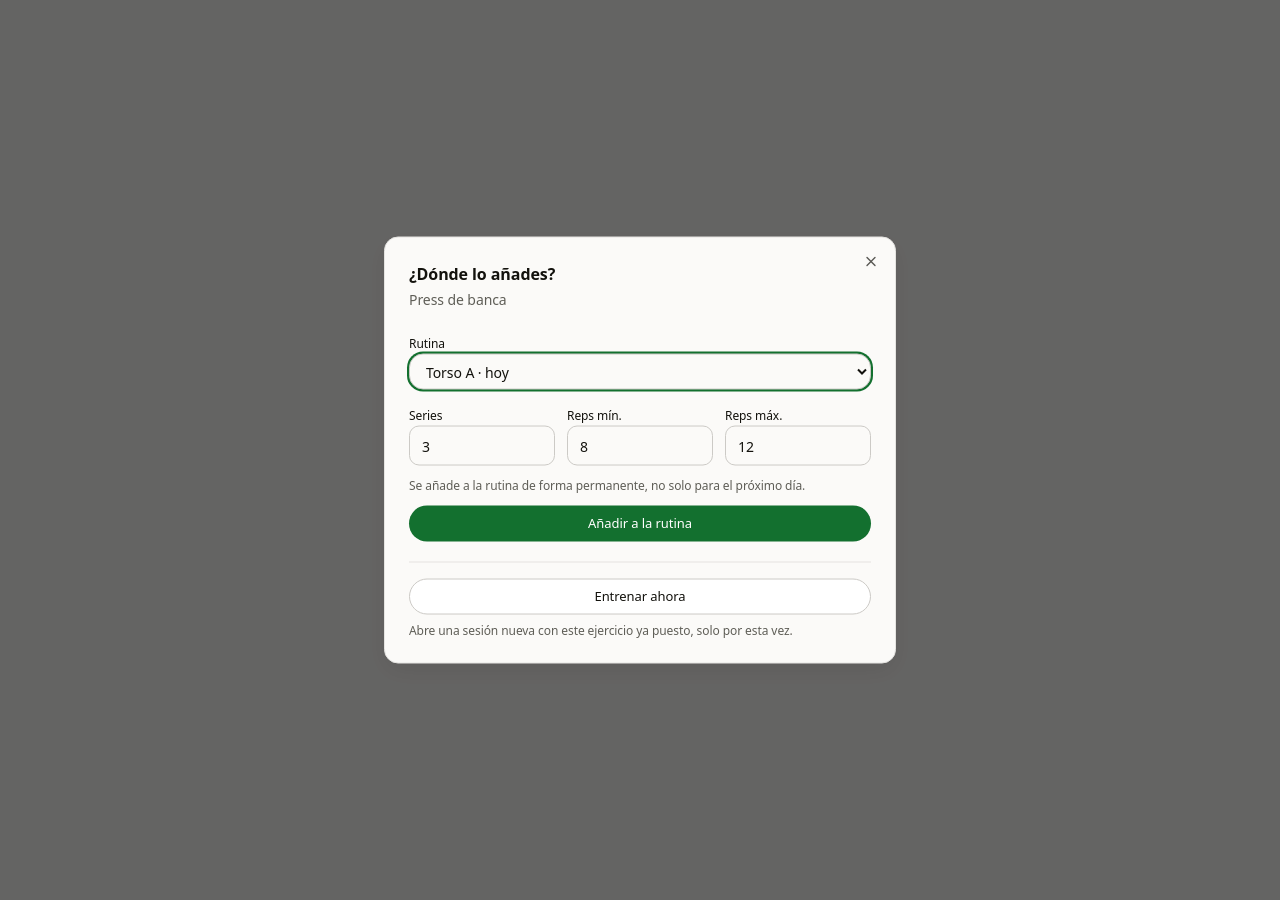
Test: AddExerciseSheet › blocks a rep range that runs backwards
Replace the text in the number field labelled "Reps mín." with "12" at (640, 446), box left=567, top=426, right=713, bottom=466
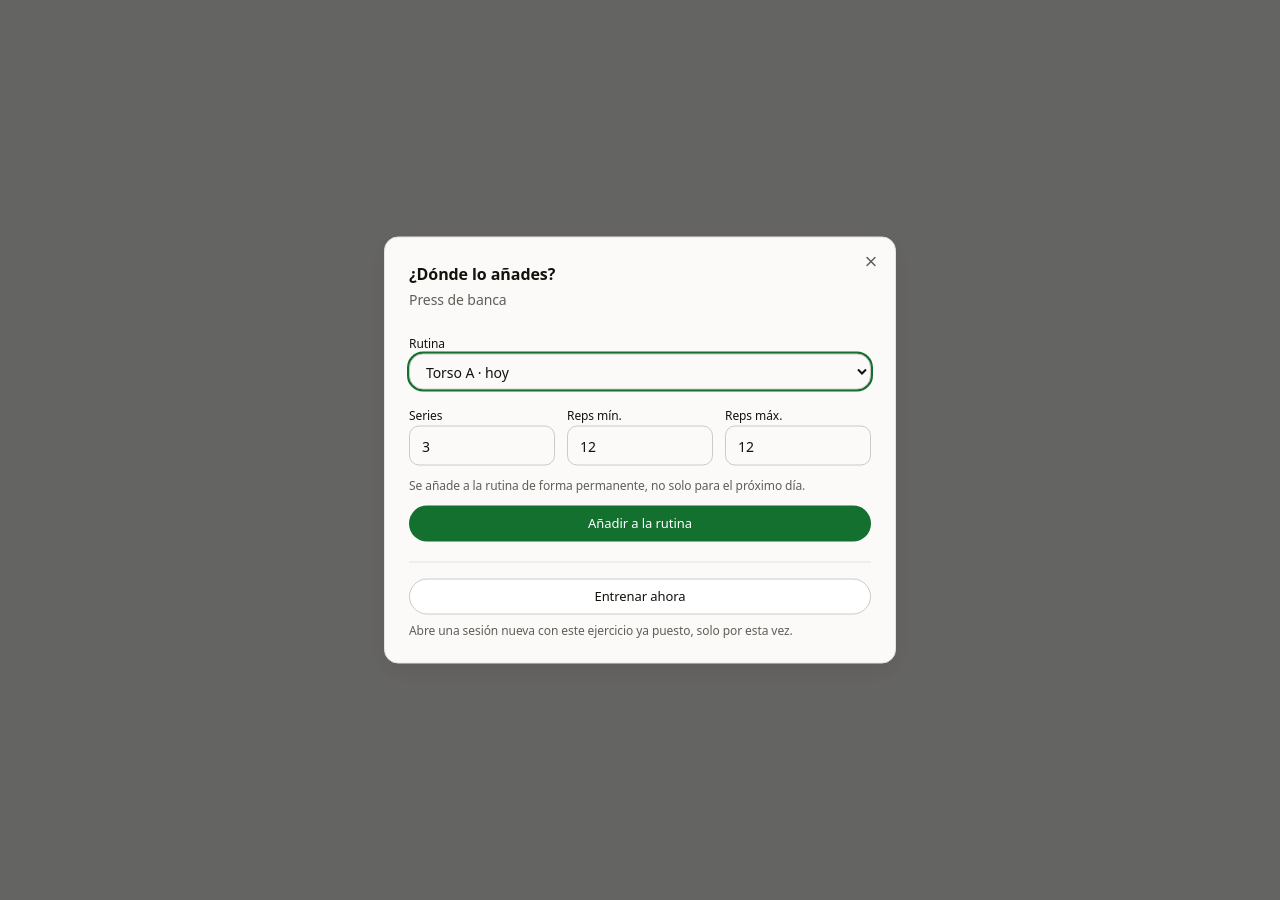
Replace the text in the number field labelled "Reps máx." with "8" at (798, 446), box left=725, top=426, right=871, bottom=466
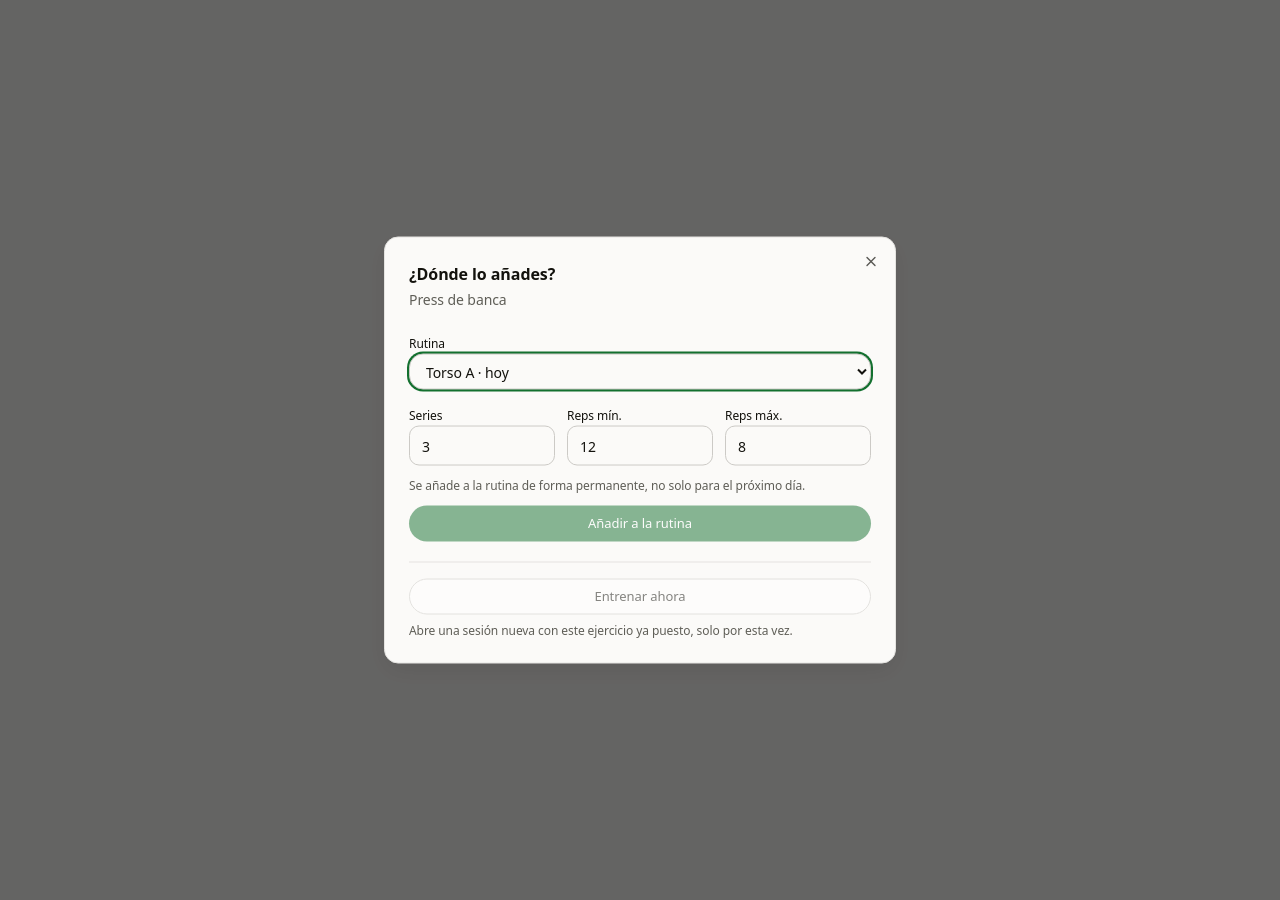
Expected: the button "Añadir a la rutina" is disabled, left=409, top=506, right=871, bottom=542
Expected: the button "Entrenar ahora" is disabled, left=409, top=578, right=871, bottom=614
